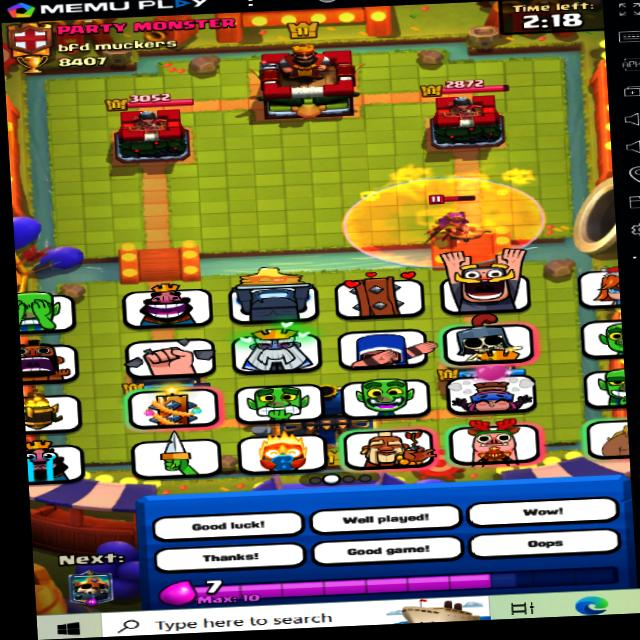archer-queen: (419, 194, 498, 251)
